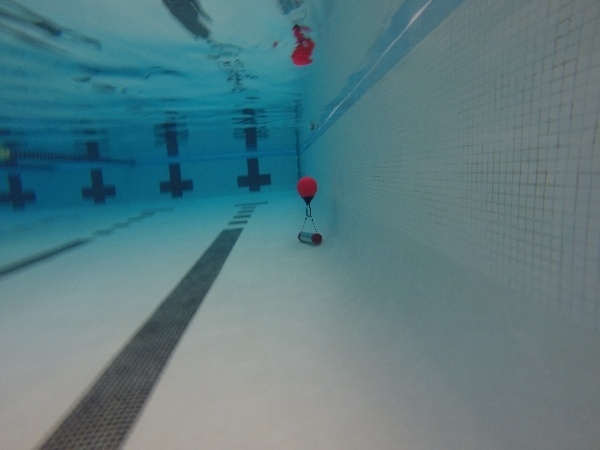buoy_red: (294, 174, 320, 206)
